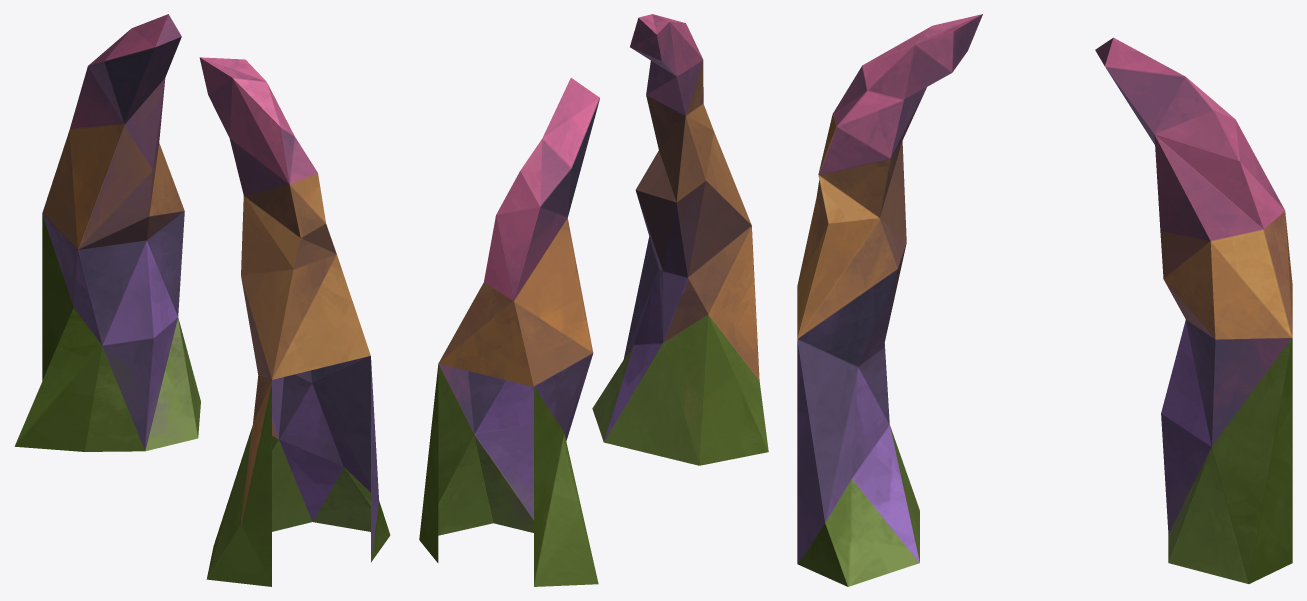
File: door02.fbx
The picture shows the model from 3 angles, left to right: view 1: azimuth 30°, elevation 25°; view 2: azimuth 150°, elevation 25°; view 3: azimuth 270°, elevation 25°; orthographic projection. The views are drawn at different scales.
Visible parts, largest first — view 1: door02; view 2: door02; view 3: door02.
Part boxes in pixels (bbox=[...]): door02: bbox=[14, 14, 390, 586]; door02: bbox=[419, 14, 768, 586]; door02: bbox=[797, 14, 1292, 586].
Bounding box in the file's own units: 0.0193 × 0.0448 × 0.0399.
